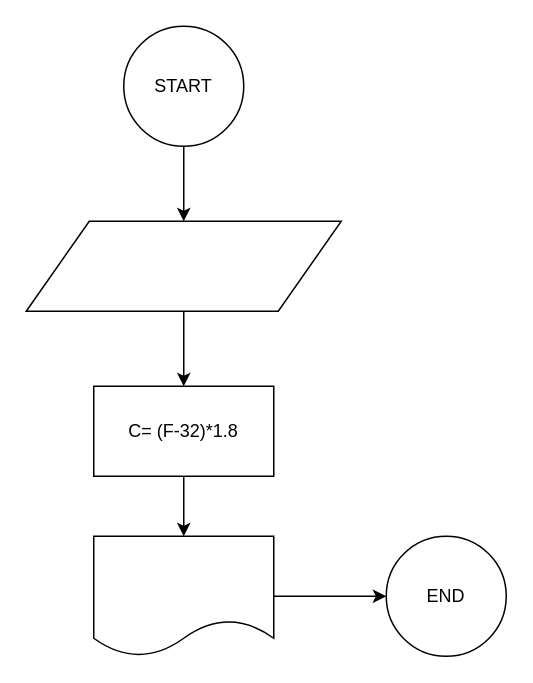
This 533x683 diagram has some shape labels left out. The shapes that lost their labels are listed below. From the top down, each one's box as (x1, y1, x2, y2) in pixels, then its label:
(25, 220, 341, 311): F=FAHRENHEIT(INPUT) C=CENTIGRADE(OUTPUT)
(92, 535, 274, 656): PRINT C
